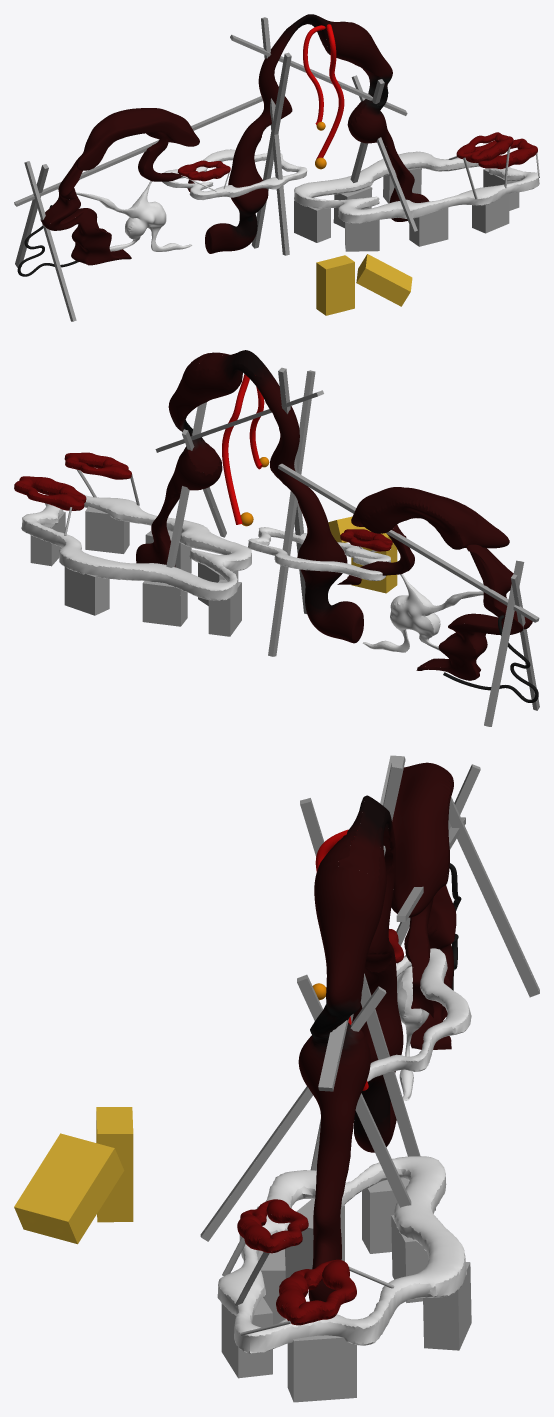
File: nomad-project-16.glb
The picture shows the model from 3 angles, top to bottom: view 1: azimuth 30°, elevation 25°; view 2: azimuth 150°, elevation 25°; view 3: azimuth 270°, elevation 25°; orthographic projection. The views are drawn at different scales.
Visible parts, largest first — view 1: Main_1, Top_14, Patch, Patch_1_6, Patch_1, Front_1, Front, Back_1, Front_5, Patch_3 (×2), Top_4, Front_3 (+29 smaller); view 2: Main_1, Top_14, Patch, Patch_1_6, Patch_1, Back_1, Back_3, Patch_3 (×2), Back, Front_18, Back_16, Front_10 (+26 smaller); view 3: Main_1, Top_14, Patch, Front_14, Patch_1_6, Front_16, Top_8, Top_4, Right_7, Right_6, Patch_1, Right_2 (+19 smaller).
Part boxes in pixels (<box>): Main_1: <box>208,14,429,253</box>; Top_14: <box>294,151,538,215</box>; Patch: <box>76,108,199,168</box>; Patch_1_6: <box>294,177,539,223</box>; Patch_1: <box>40,157,130,264</box>; Front_1: <box>49,182,131,265</box>; Front: <box>78,120,197,170</box>; Back_1: <box>76,181,191,251</box>; Front_5: <box>326,262,354,315</box>; Patch_3 (×2): <box>76,66,387,251</box>; Top_4: <box>163,149,307,195</box>; Front_3: <box>345,220,379,251</box>; Main_1: <box>136,350,362,643</box>; Top_14: <box>22,493,251,590</box>; Patch: <box>351,487,509,549</box>; Patch_1_6: <box>21,494,251,600</box>; Patch_1: <box>419,544,532,679</box>; Back_1: <box>416,551,520,680</box>; Back_3: <box>363,574,483,652</box>; Patch_3 (×2): <box>180,404,483,652</box>; Back: <box>362,502,463,549</box>; Front_18: <box>142,583,180,626</box>; Back_16: <box>85,511,123,553</box>; Front_10: <box>268,371,311,656</box>; Main_1: <box>298,795,403,1301</box>; Top_14: <box>218,1156,464,1336</box>; Patch: <box>392,762,453,917</box>; Front_14: <box>14,1133,114,1221</box>; Patch_1_6: <box>217,1173,466,1353</box>; Front_16: <box>293,1337,356,1402</box>; Top_8: <box>276,1259,355,1318</box>; Top_4: <box>370,948,468,1069</box>; Right_7: <box>300,802,435,1210</box>; Right_6: <box>448,799,539,997</box>; Patch_1: <box>404,885,456,1049</box>; Right_2: <box>97,1134,133,1222</box>.
Size of the model in its own units: 6.1 by 3 by 3.05.
